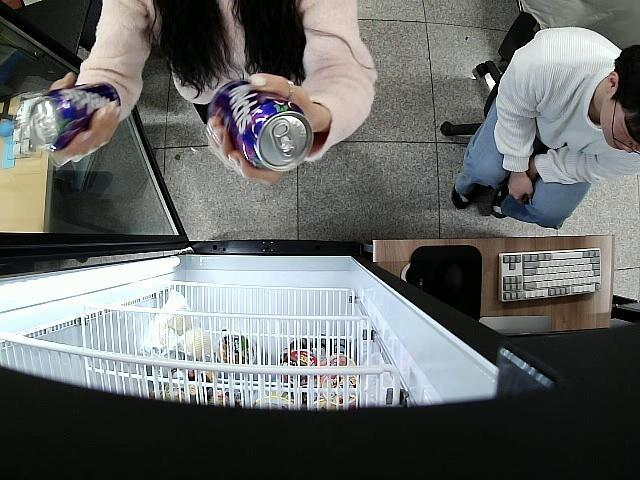14_welchsGrape: (208, 78, 314, 176), (22, 81, 120, 150)
